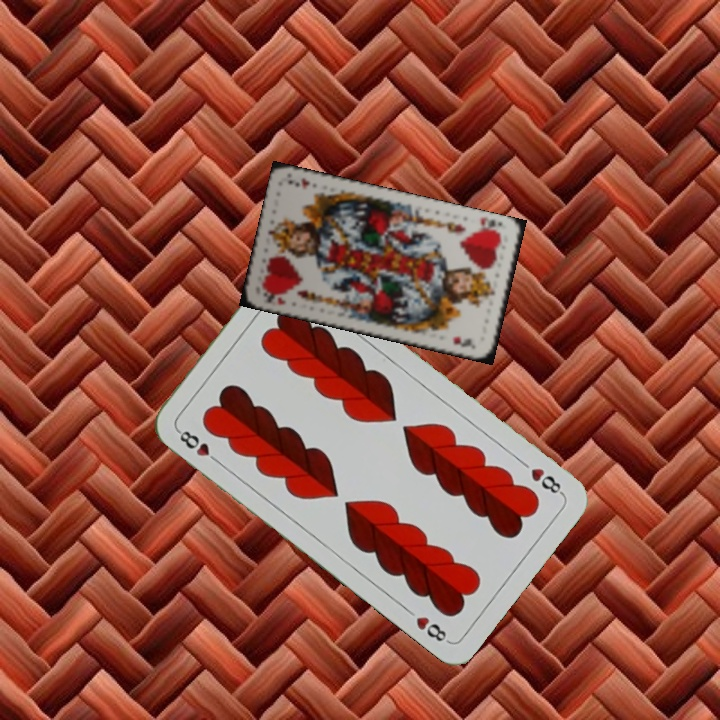H8: (173, 425, 223, 467), (526, 463, 566, 498)
HK: (476, 214, 505, 238), (259, 288, 289, 308)
